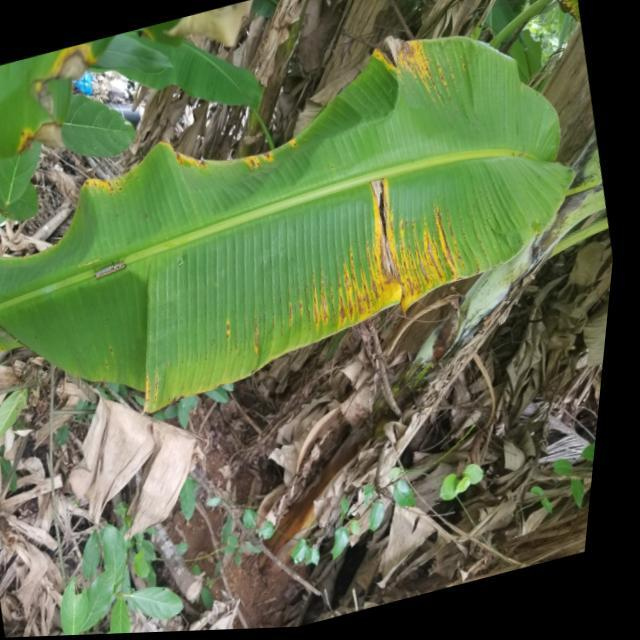Early_rust: (14, 20, 551, 350)
